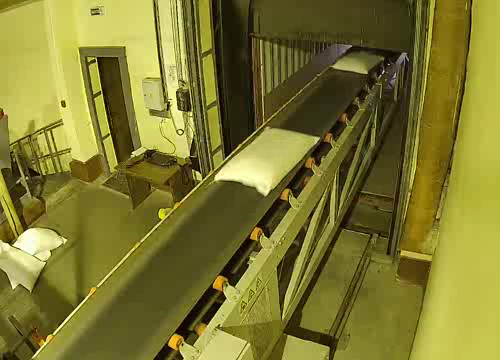bag: (209, 122, 322, 196), (330, 50, 384, 77)
